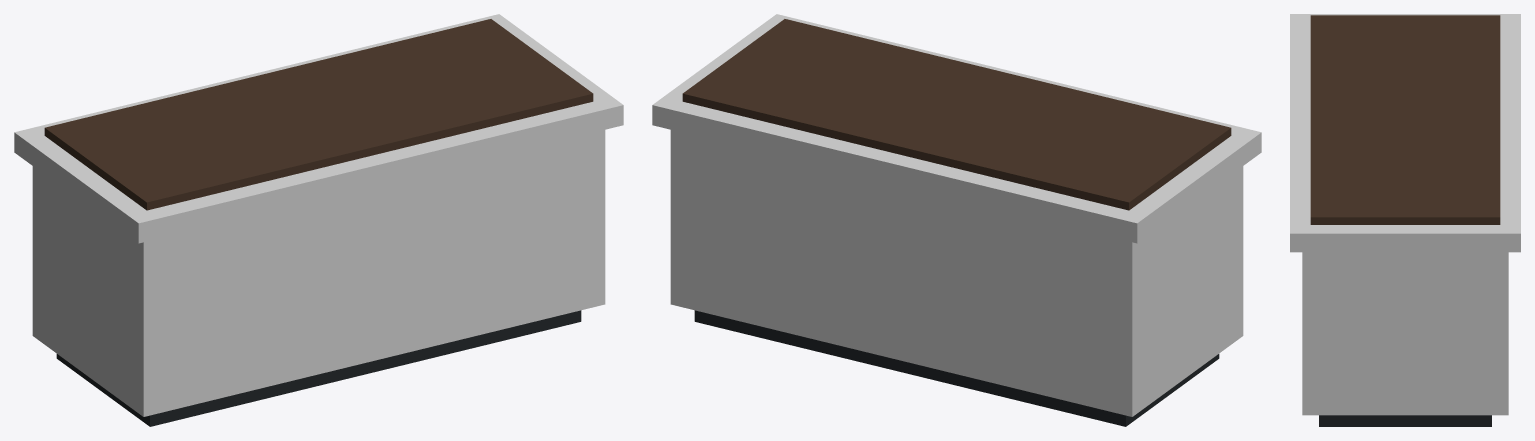
File: planter.glb
3 renders of one model, left to right at view 1: azimuth 30°, elevation 25°; view 2: azimuth 150°, elevation 25°; view 3: azimuth 270°, elevation 25°, orthographic. The views are drawn at different scales.
Visible parts, largest first — view 1: planter; view 2: planter; view 3: planter.
Part boxes in pixels (left/top/right/bottom): planter: left=14, top=14, right=623, bottom=426; planter: left=652, top=14, right=1261, bottom=426; planter: left=1290, top=14, right=1520, bottom=426.
Bounding box in the file's own units: 1.26 × 0.57 × 0.56.
